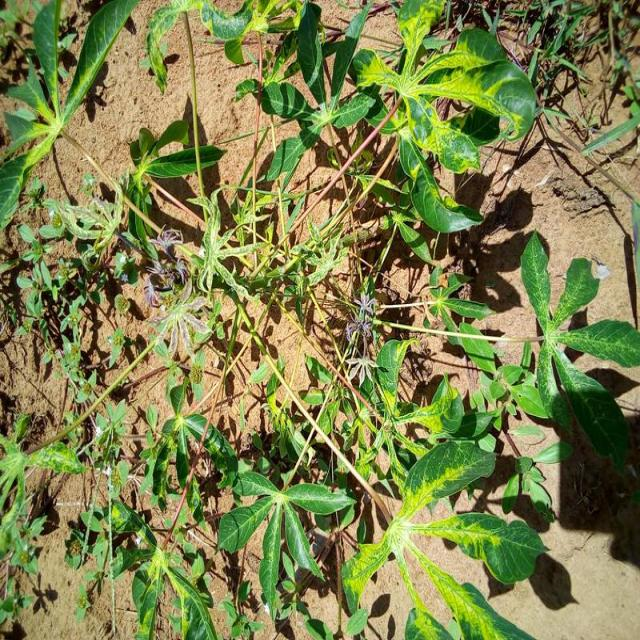cassava leaf: (1, 1, 636, 638), (340, 436, 550, 638), (216, 467, 356, 620)
